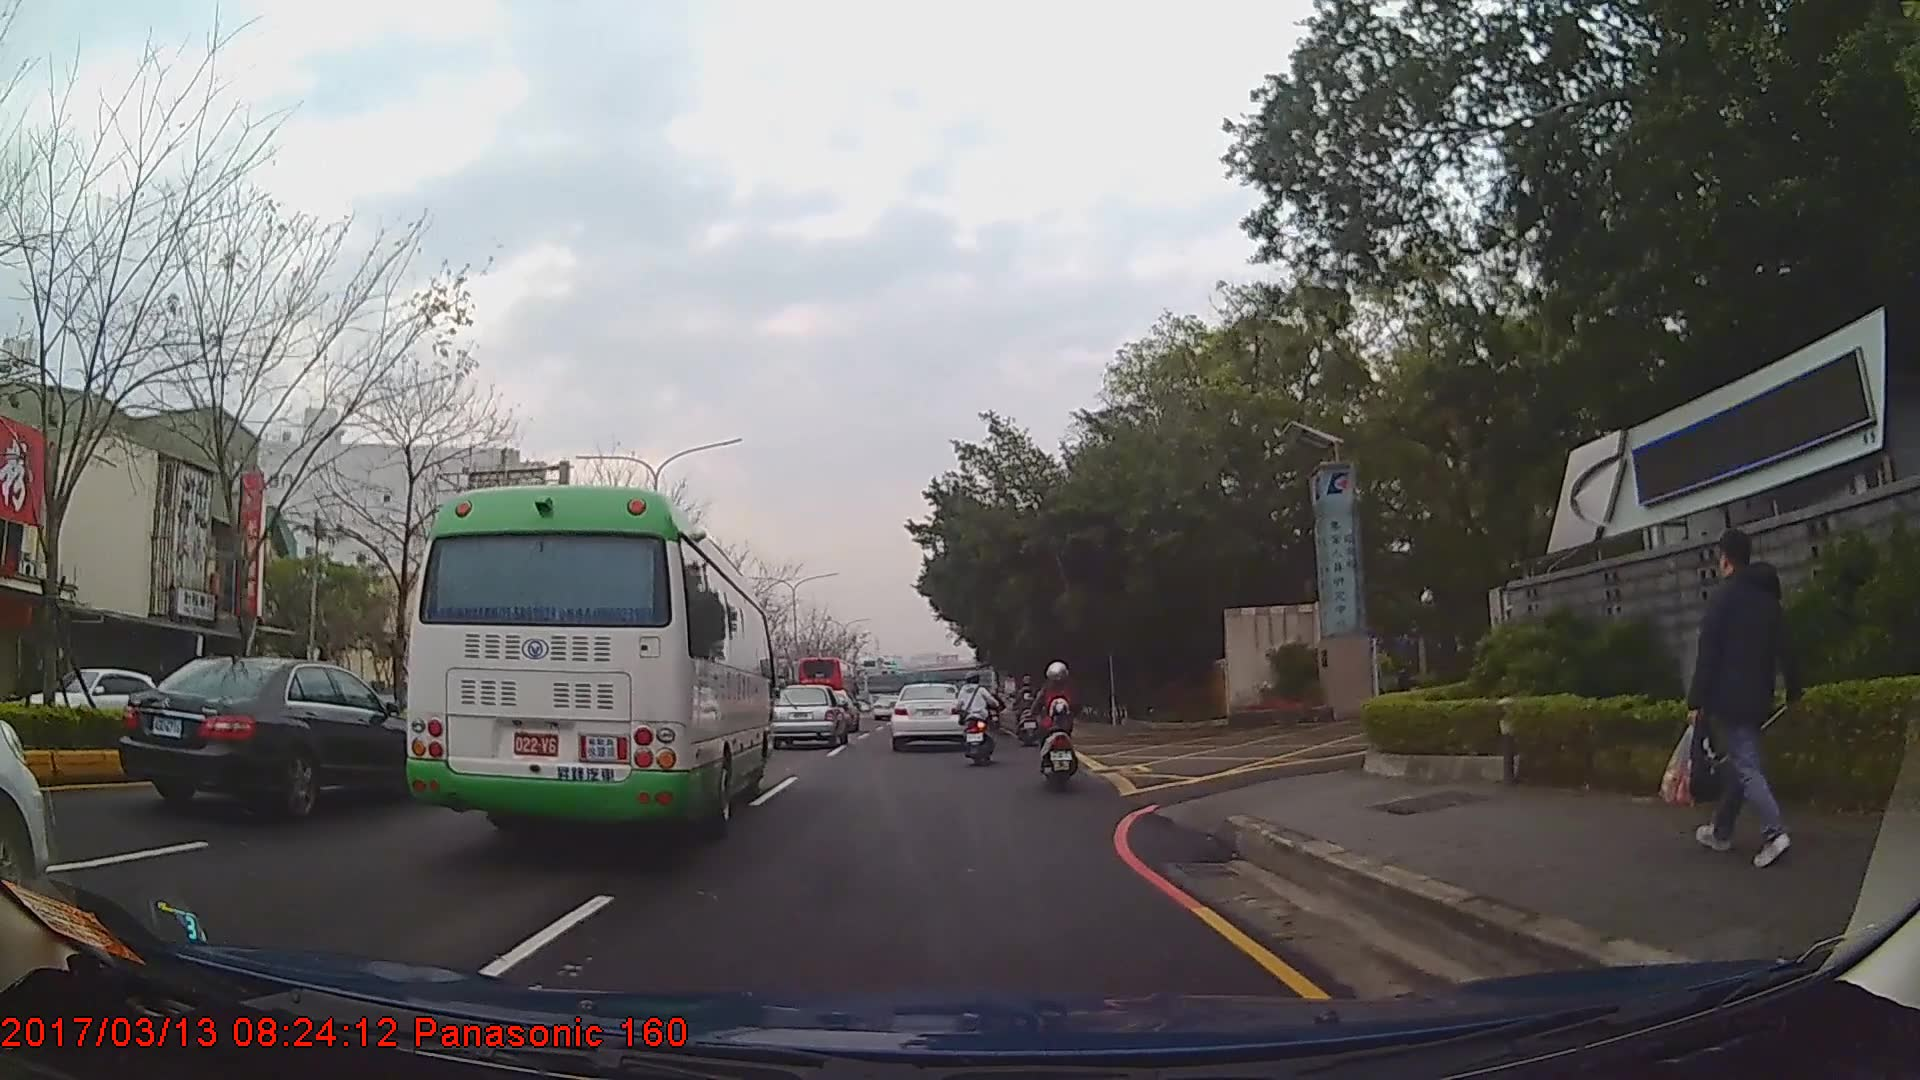pedestrian: (1663, 536, 1811, 859)
rider: (1039, 666, 1081, 794), (954, 677, 996, 772), (1014, 677, 1043, 751)
vehicle: (395, 486, 773, 849), (117, 656, 439, 825), (15, 663, 178, 744), (889, 681, 967, 752), (772, 683, 849, 748), (794, 656, 855, 719)
